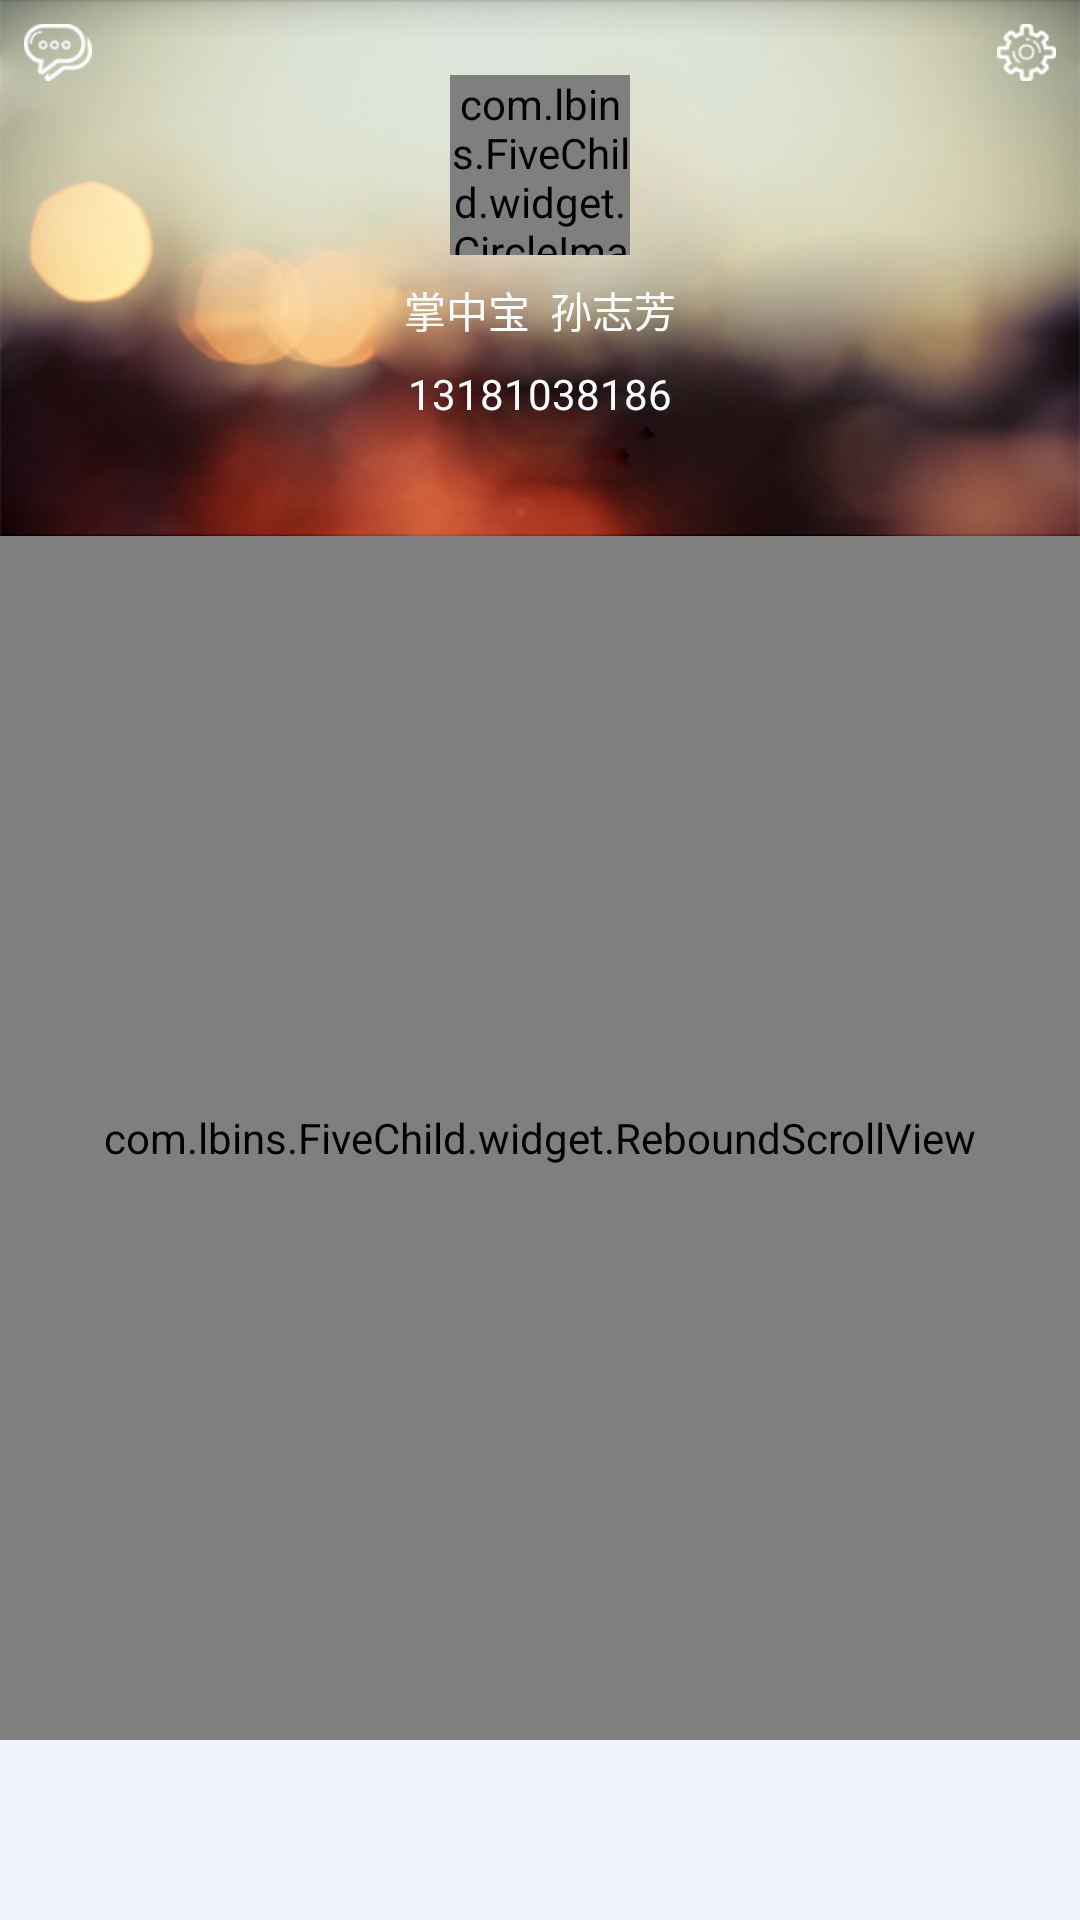

Screen size 1080w x 1920h. Icon name, then its box in pixels as box(x1, y1, x2, y2):
mine msg: box(0, 0, 116, 81)
mine set: box(973, 0, 1080, 105)
